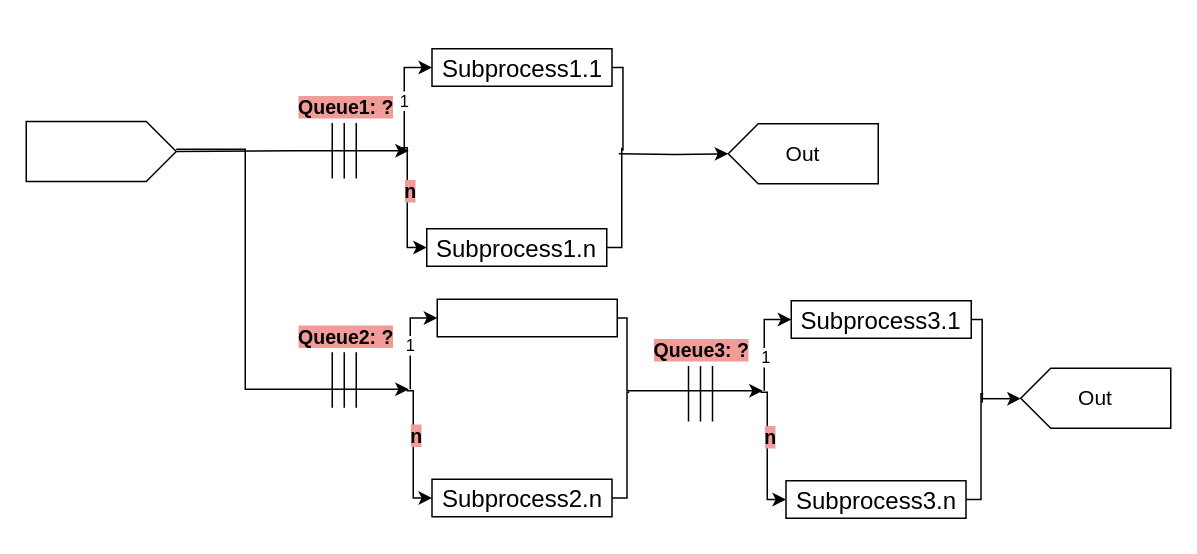
The diagram is 1197 pixels wide and 554 high, and some of its shapes have lost their labels. The centre of each missing label's shape, as x and y in pixels:
"Create" belongs at pixel 100 151.
"Subprocess2.1" belongs at pixel 526 317.
